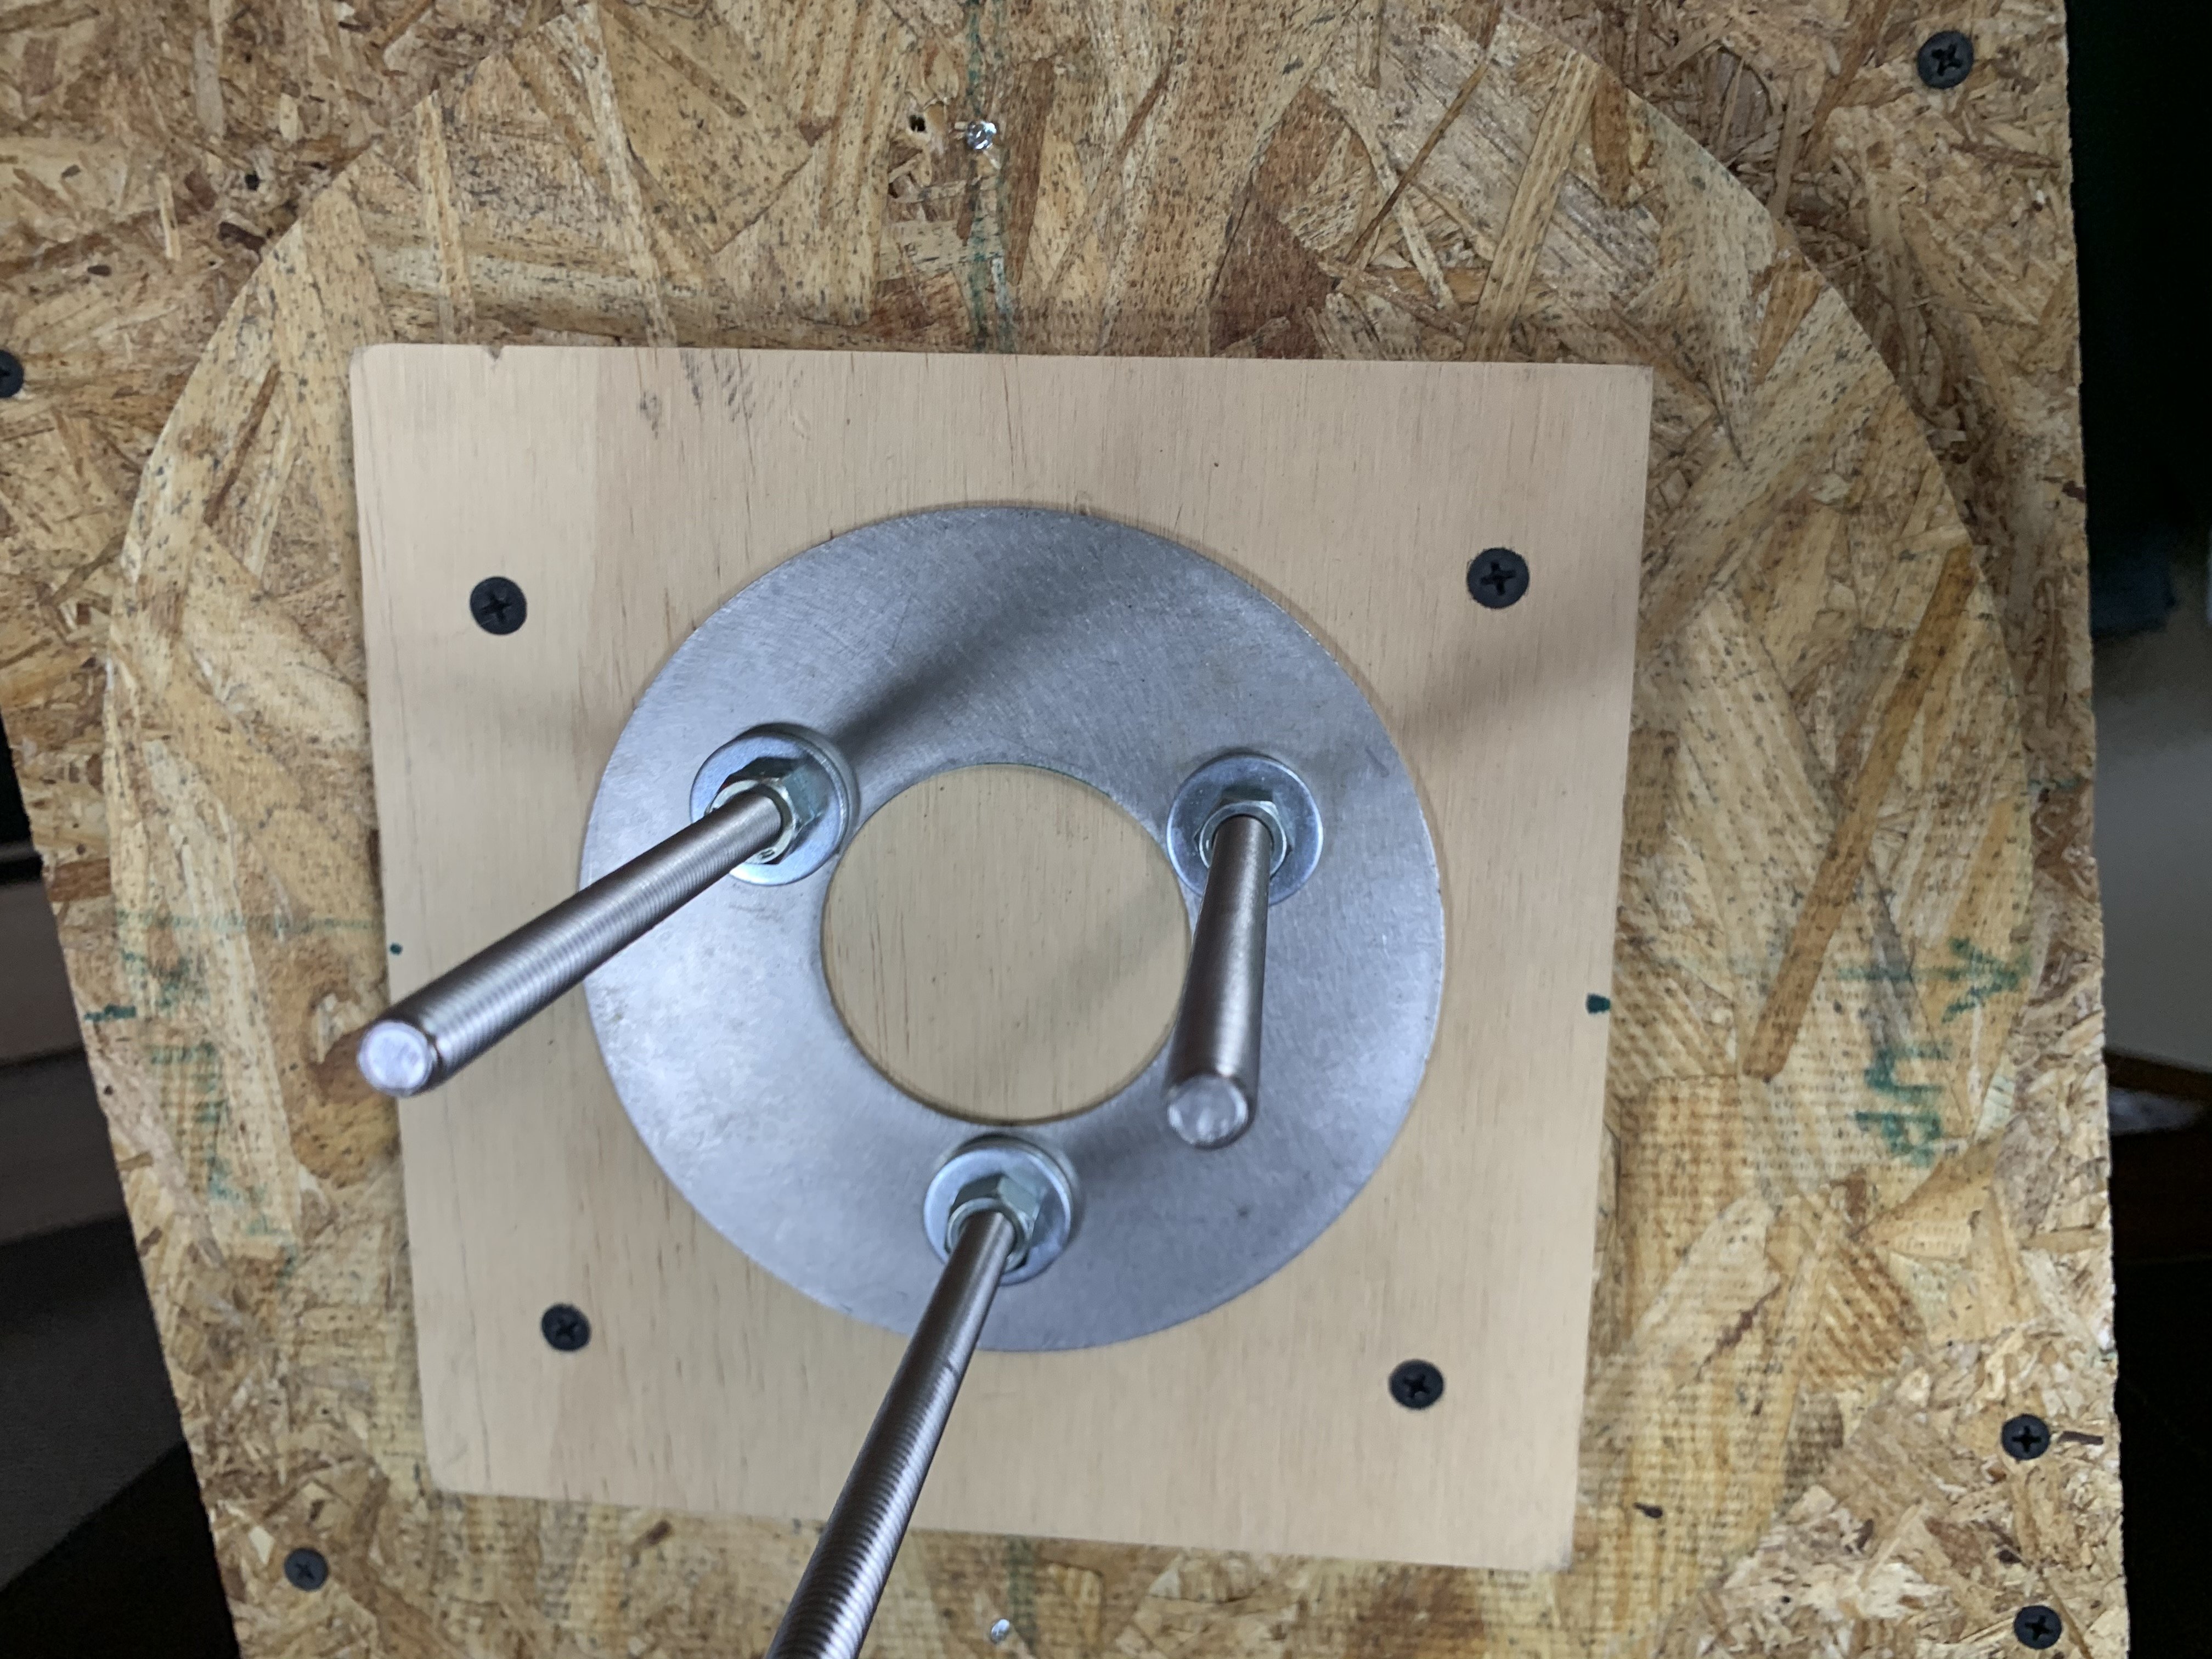bolt: (690, 723, 857, 884), (1160, 753, 1325, 911), (921, 1133, 1085, 1290)
